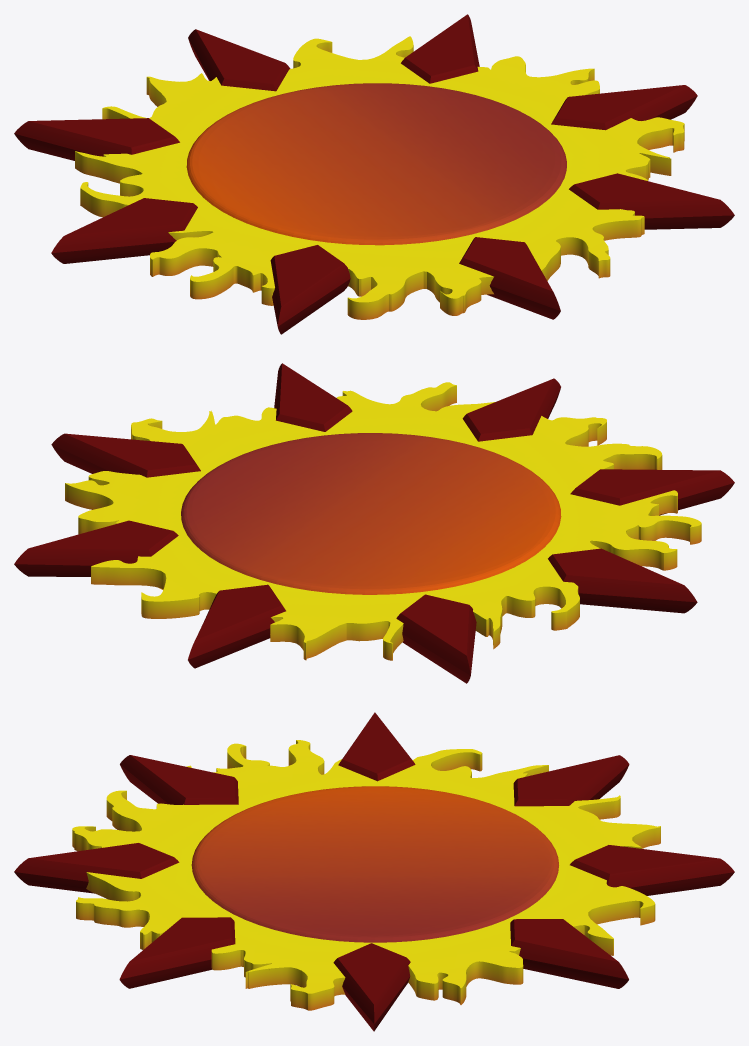
The model's file is TablaSurfSol.fbx.
3 views of the same model, one above another, from view 1: azimuth 30°, elevation 25°; view 2: azimuth 150°, elevation 25°; view 3: azimuth 270°, elevation 25° (orthographic). The views are drawn at different scales.
Visible parts, largest first — view 1: BézierCurve.006; view 2: BézierCurve.006; view 3: BézierCurve.006.
Boxes of the visible parts, x1,y1,x2,y2 form: BézierCurve.006: (14,14,734,334); BézierCurve.006: (14,363,734,683); BézierCurve.006: (14,712,734,1031).
Bounding box in the file's own units: 417 × 17.34 × 417.
Materials: 1 (1 with a texture image).
